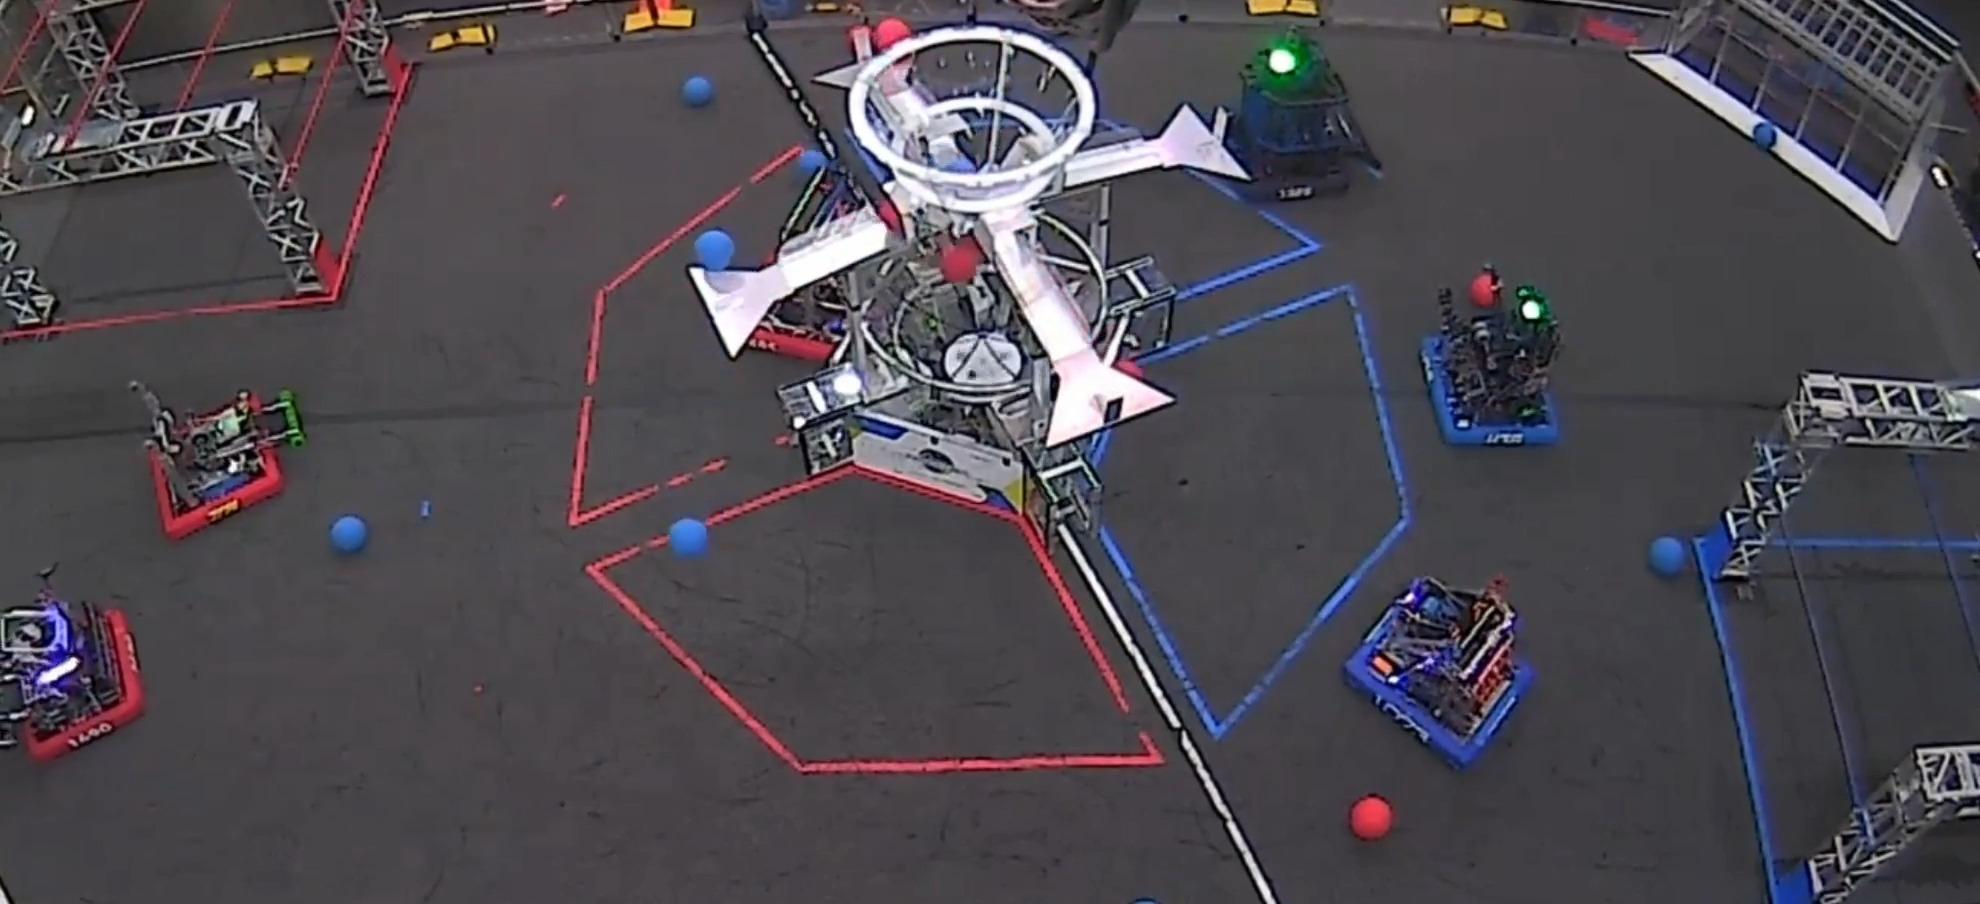Robots: (1346, 577, 1530, 766), (130, 383, 306, 539), (0, 567, 143, 759), (1226, 29, 1381, 199), (1422, 265, 1560, 444), (748, 282, 847, 364)
